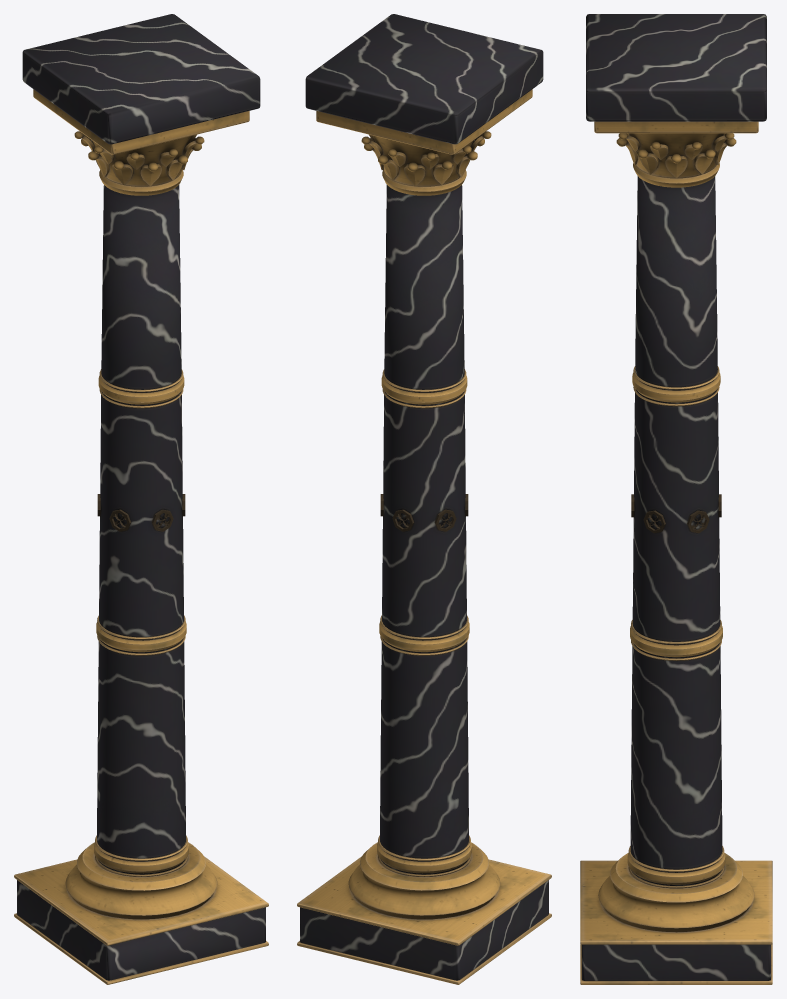
The model's file is PillarMarble.fbx.
3 views of the same model, side by side, from view 1: azimuth 30°, elevation 25°; view 2: azimuth 150°, elevation 25°; view 3: azimuth 270°, elevation 25° (orthographic). The views are drawn at different scales.
Visible parts, largest first — view 1: PillarMarble; view 2: PillarMarble; view 3: PillarMarble.
Part boxes in pixels (bbox=[...]): PillarMarble: bbox=[14, 14, 268, 984]; PillarMarble: bbox=[297, 14, 551, 984]; PillarMarble: bbox=[580, 14, 772, 984].
Size of the model in its own units: 234 by 1200 by 234.
